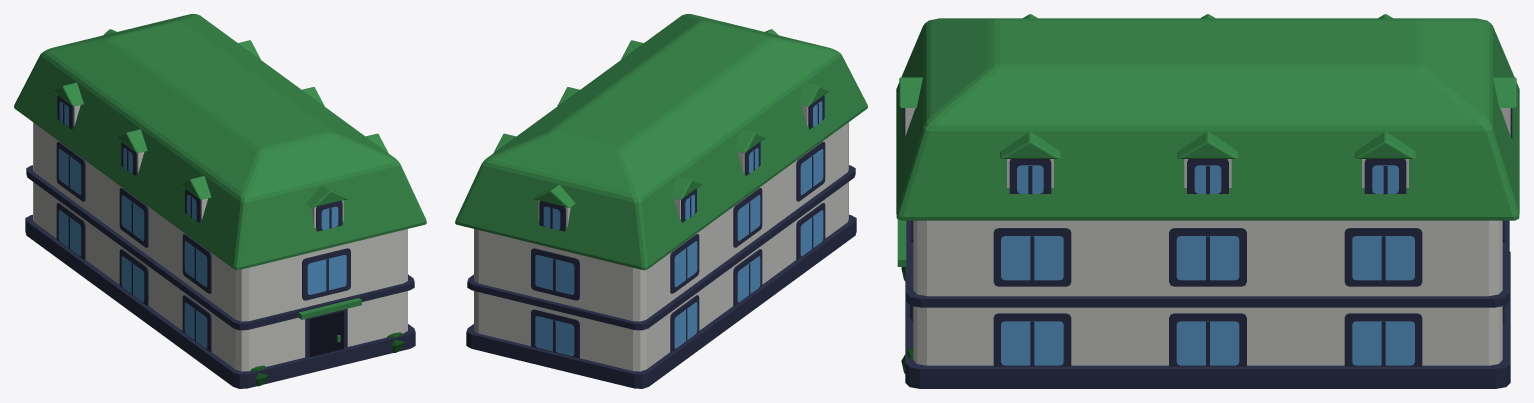
The model's file is house-1x2-2f-mansard-a.glb.
The picture shows the model from 3 angles, left to right: view 1: azimuth 30°, elevation 25°; view 2: azimuth 150°, elevation 25°; view 3: azimuth 270°, elevation 25°; orthographic projection. The views are drawn at different scales.
Visible parts, largest first — view 1: house-1x2-2f-mansard-a; view 2: house-1x2-2f-mansard-a; view 3: house-1x2-2f-mansard-a.
Boxes of the visible parts, x1,y1,x2,y2 form: house-1x2-2f-mansard-a: (14,14,426,388); house-1x2-2f-mansard-a: (455,14,867,388); house-1x2-2f-mansard-a: (896,14,1519,388).
Bounding box in the file's own units: 0.9876 × 1 × 1.99.
1 material, 1 textured.
